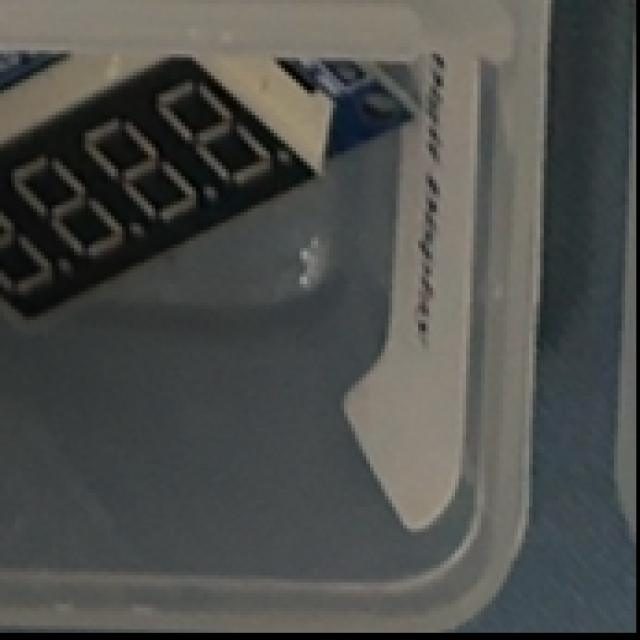Digit Display: (0, 0, 419, 353)
